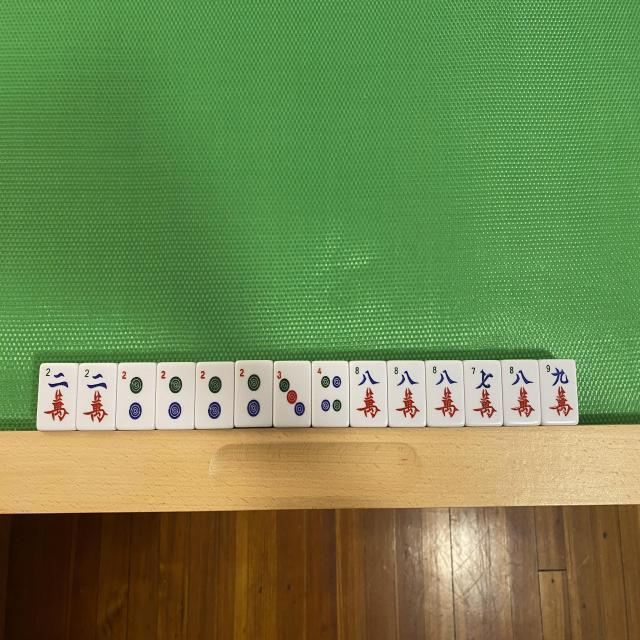sc2: (80, 367, 112, 428), (41, 366, 72, 425)
sc7: (465, 364, 500, 422)
sc8: (390, 362, 424, 424), (352, 364, 383, 424), (506, 363, 536, 422), (430, 364, 460, 420)
sc9: (542, 363, 572, 421)
sd2: (198, 364, 232, 424), (157, 366, 191, 426), (237, 365, 269, 422), (119, 368, 151, 422)
sd3: (276, 366, 308, 422)
sd4: (314, 365, 346, 423)
